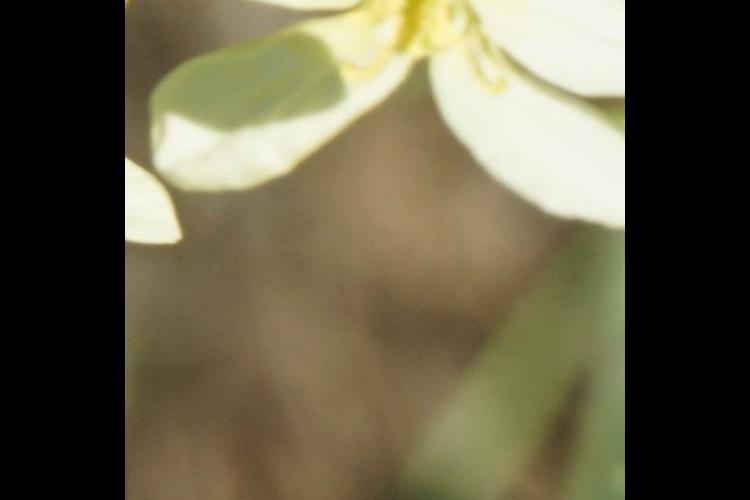white: (157, 1, 619, 215)
